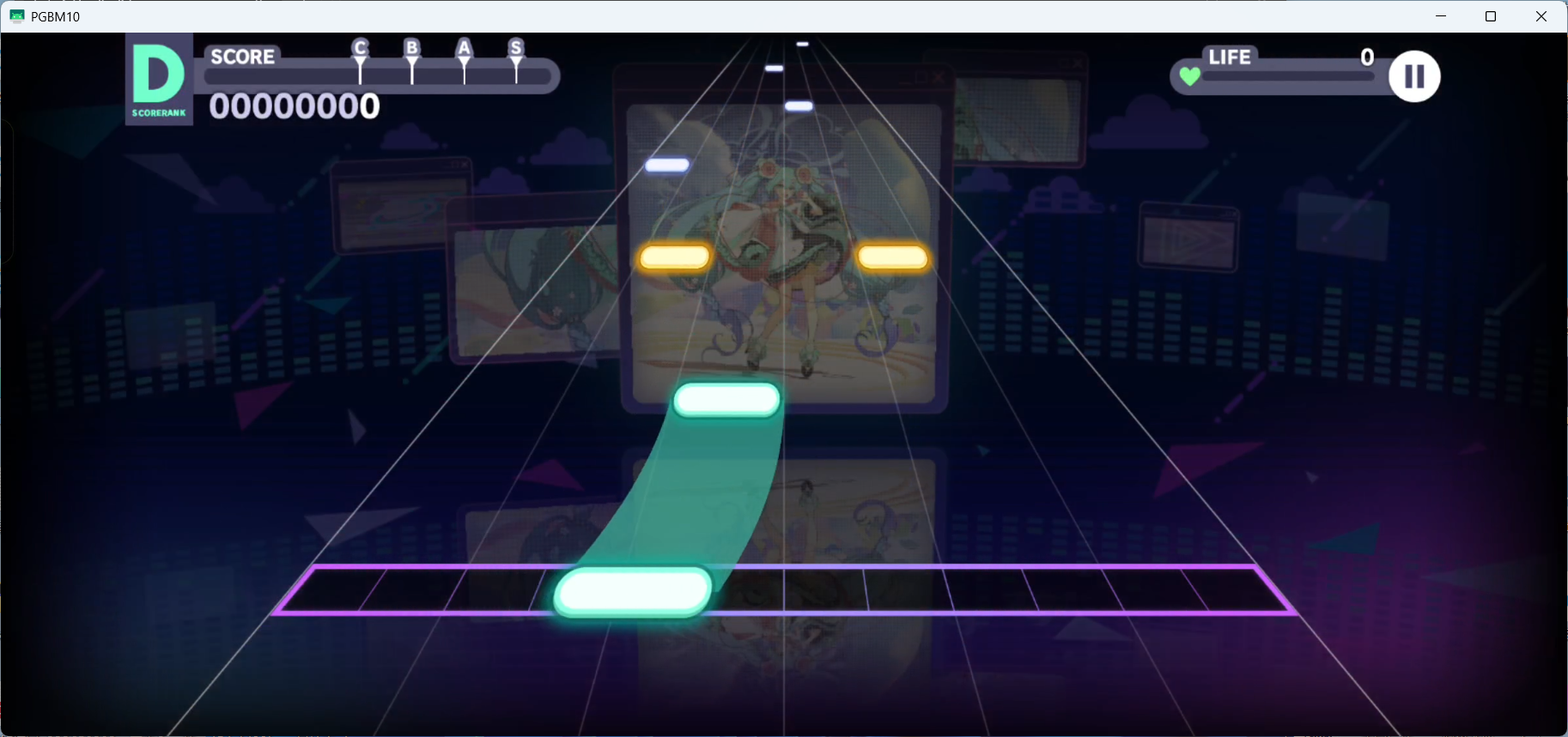hold: (575, 418, 783, 569)
tap: (553, 566, 713, 617), (673, 382, 781, 419), (640, 245, 709, 269), (859, 246, 927, 269), (645, 159, 690, 172), (785, 101, 813, 112), (764, 65, 783, 71), (796, 41, 808, 46)
